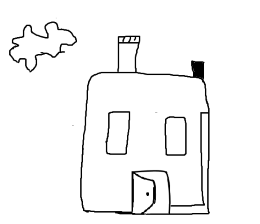chimney: (115, 32, 142, 77), (187, 51, 212, 87)
clouds: (0, 20, 83, 74)
door: (125, 166, 173, 218)
open_window: (157, 107, 195, 161), (102, 105, 134, 160)
single_line_roof: (80, 61, 235, 87)
wall: (79, 85, 214, 217)
